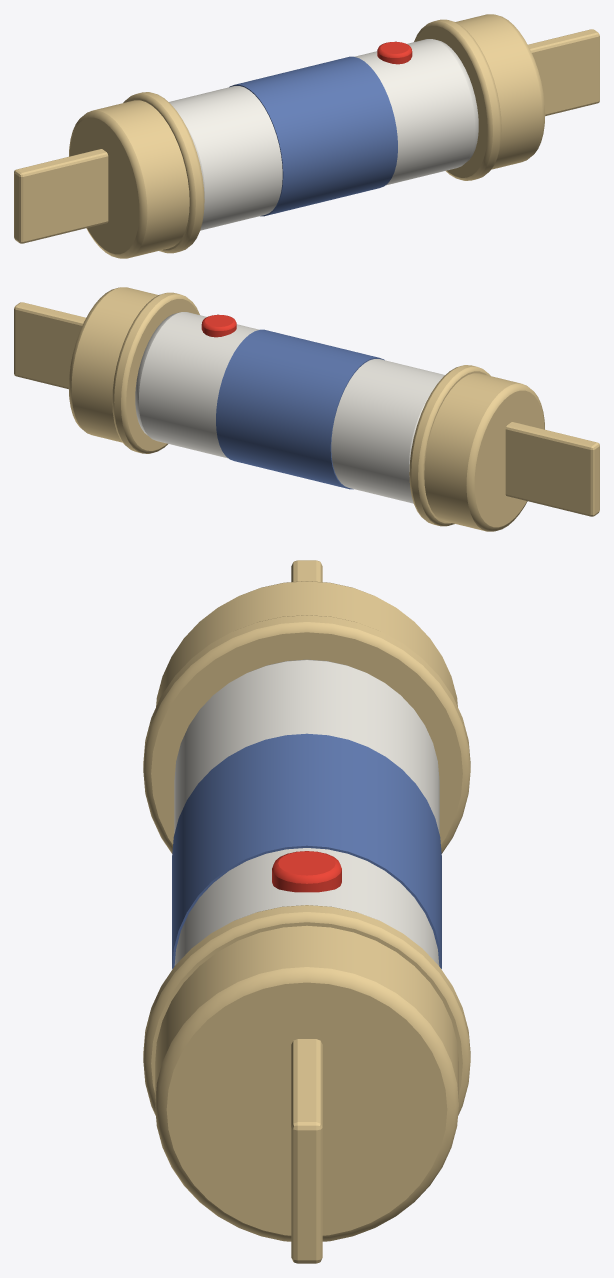
File: Fuse.glb
3 renders of one model, top to bottom at view 1: azimuth 30°, elevation 25°; view 2: azimuth 150°, elevation 25°; view 3: azimuth 270°, elevation 25°, orthographic. The views are drawn at different scales.
Parts seen in each view (by area): view 1: Fuse; view 2: Fuse; view 3: Fuse.
Part boxes in pixels (<box>): Fuse: <box>14,14,599,258</box>; Fuse: <box>14,287,599,531</box>; Fuse: <box>143,560,470,1263</box>.
Bounding box in the file's own units: 0.172 × 0.042 × 0.042.
